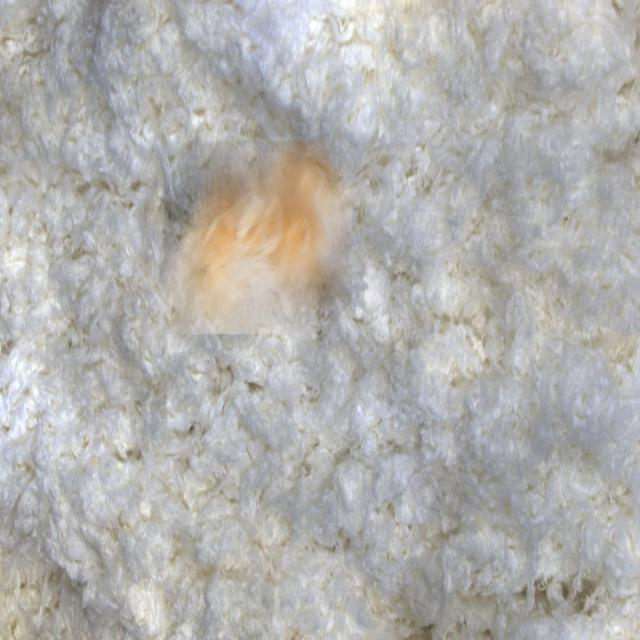dust: (164, 141, 352, 334)
